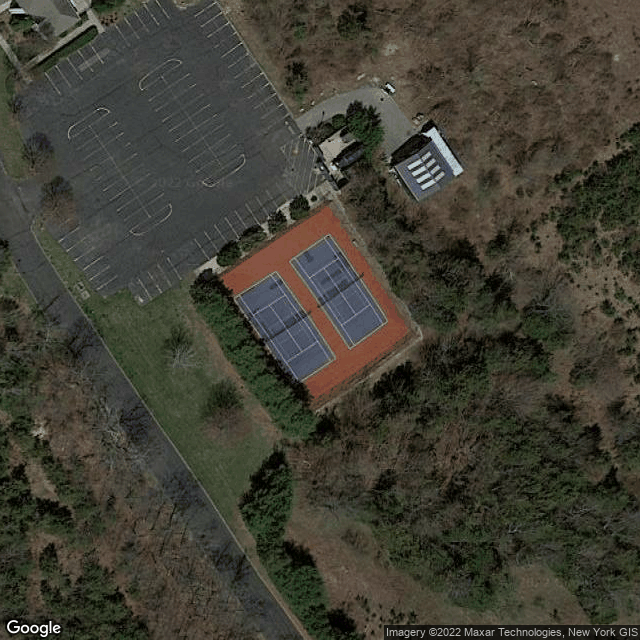Court: (232, 269, 338, 390), (288, 233, 390, 349)
